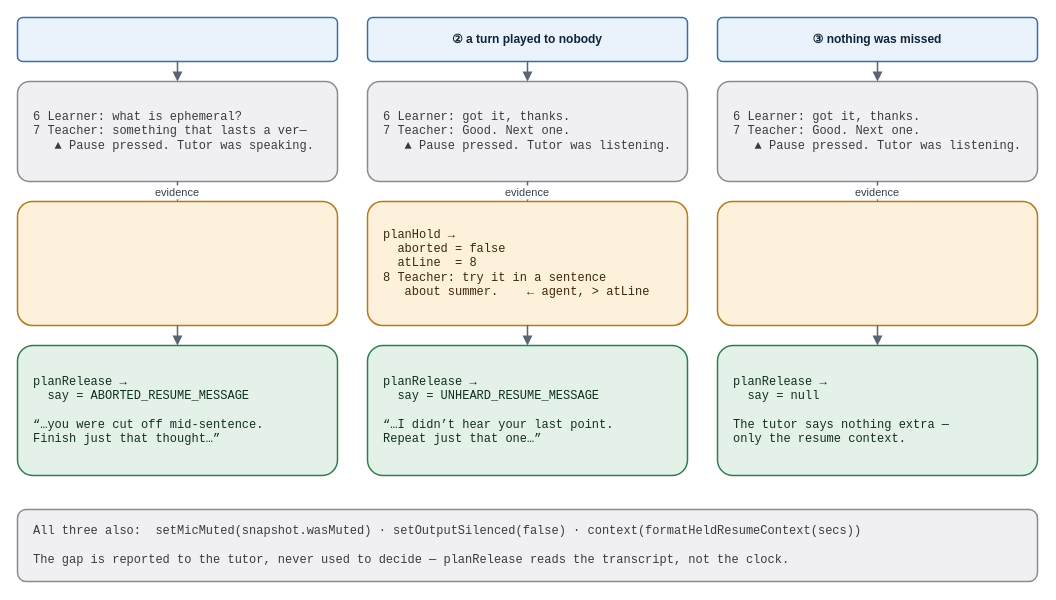
Image size: 1056x600. Some labels were removed from this diagram. Here are the shapes that lost their labels. From the top down, the centre of each, then its label:
At (177,39): "① the tutor was cut off".
At (177,263): "planHold → aborted = true atLine = 8 cancelTurn() the turn never ends".
At (877,263): "planHold → aborted = false atLine = 8 nothing after line 8".
